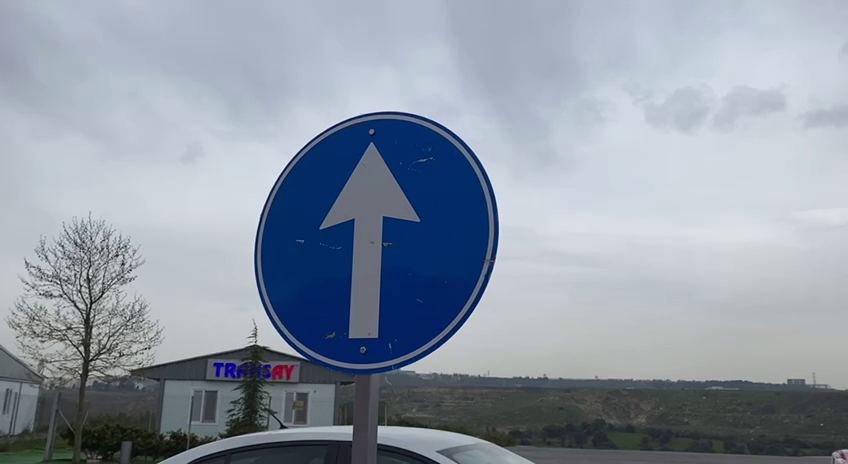forward: (240, 105, 508, 385)
